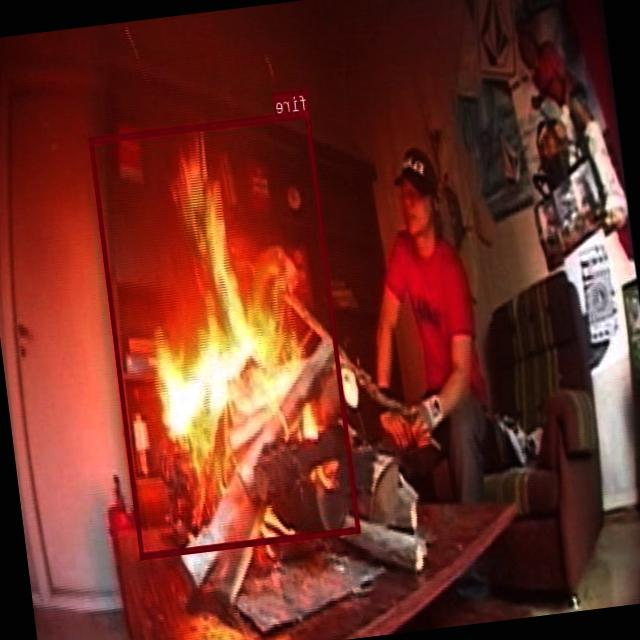fire: (89, 109, 361, 558)
